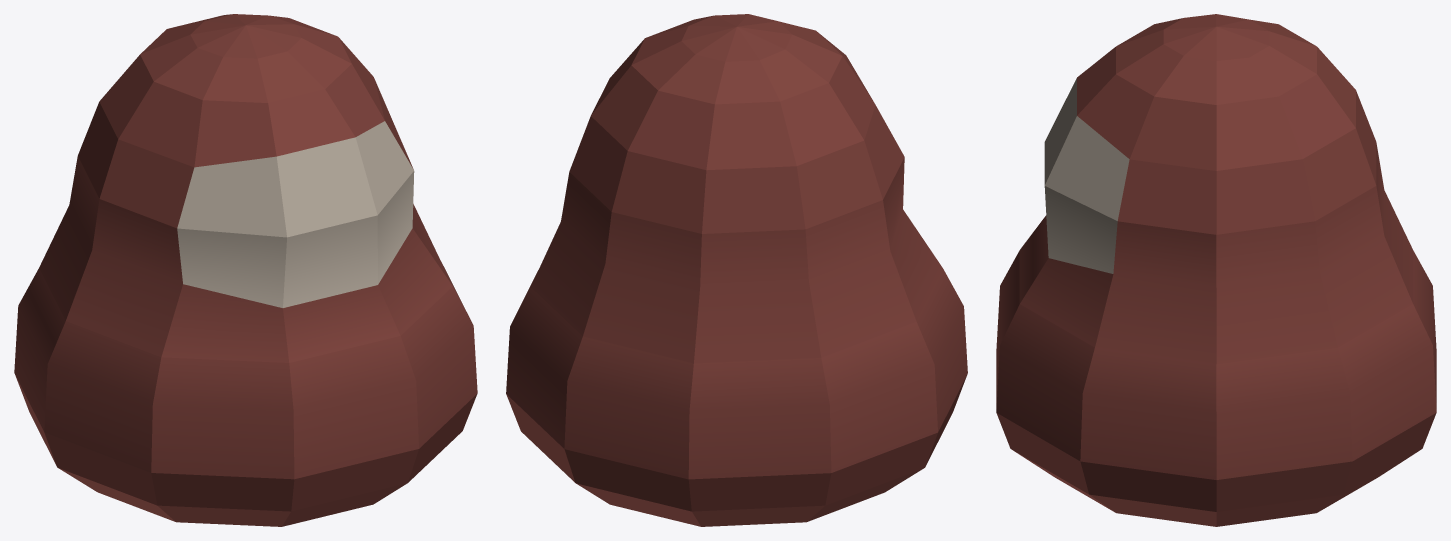
The model's file is Darumadraft_M4.fbx.
3 views of the same model, side by side, from view 1: azimuth 30°, elevation 25°; view 2: azimuth 150°, elevation 25°; view 3: azimuth 270°, elevation 25° (orthographic).
Visible parts, largest first — view 1: Daruma_Body; view 2: Daruma_Body; view 3: Daruma_Body.
Boxes of the visible parts, <box> form: Daruma_Body: <box>14,14,477,526</box>; Daruma_Body: <box>506,14,967,526</box>; Daruma_Body: <box>996,14,1436,526</box>.
Bounding box in the file's own units: 9.74 × 10.67 × 9.26.
